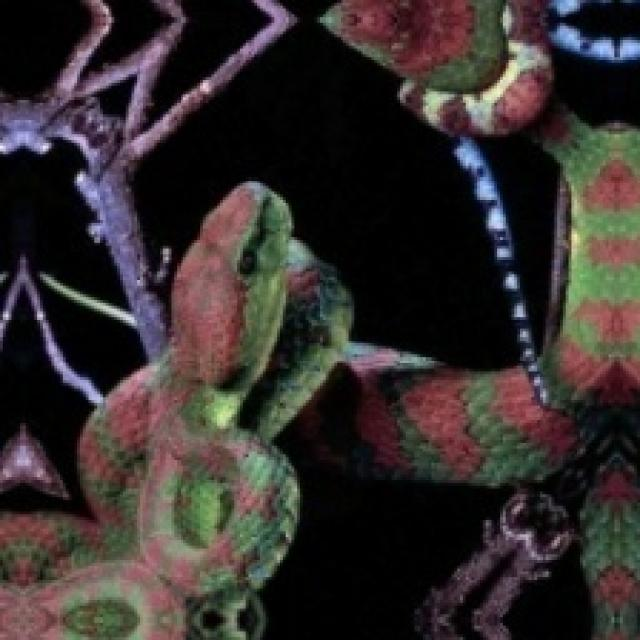philippine pitviper: (295, 124, 640, 639), (0, 183, 349, 637), (470, 141, 509, 268)
